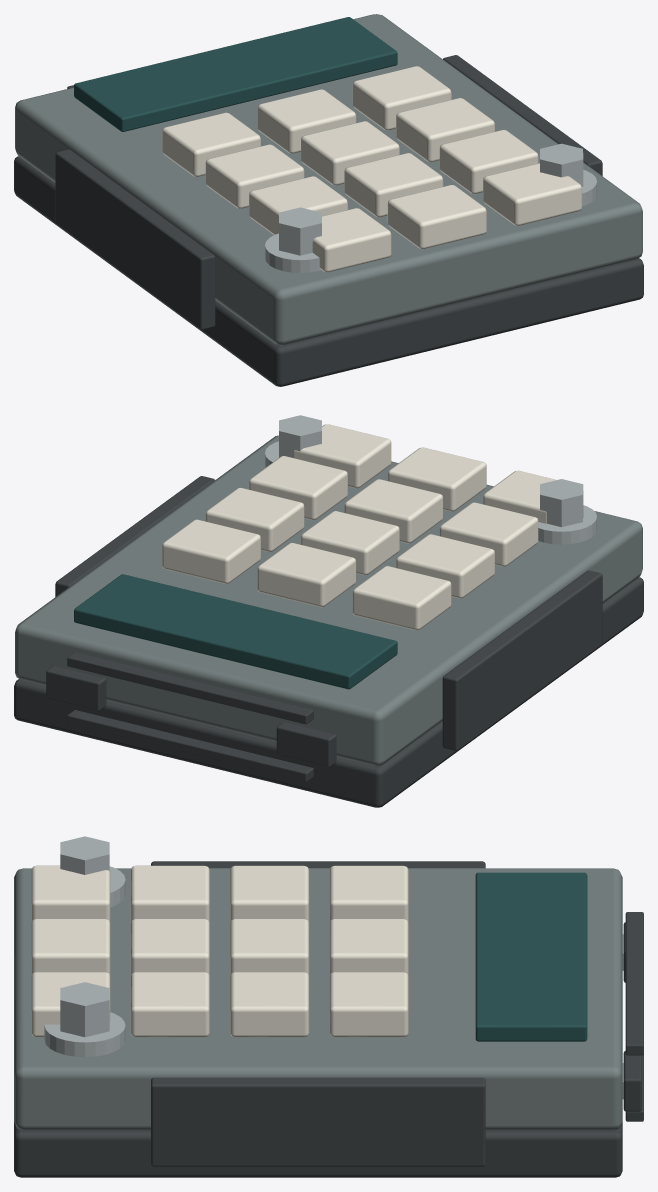
File: pneumatic-tube-mail-exchange-pneumatic-tube-mail-excha-c862b0dc__32302.glb
The picture shows the model from 3 angles, top to bottom: view 1: azimuth 30°, elevation 25°; view 2: azimuth 150°, elevation 25°; view 3: azimuth 270°, elevation 25°; orthographic projection. The views are drawn at different scales.
Parts seen in each view (by area): view 1: pneumatic-tube-mail-exchange-station-control-keypad; view 2: pneumatic-tube-mail-exchange-station-control-keypad; view 3: pneumatic-tube-mail-exchange-station-control-keypad.
Part boxes in pixels (x1,y1,x2,y2): pneumatic-tube-mail-exchange-station-control-keypad: (14, 14, 643, 386); pneumatic-tube-mail-exchange-station-control-keypad: (14, 415, 643, 807); pneumatic-tube-mail-exchange-station-control-keypad: (14, 836, 643, 1177).
Size of the model in its own units: 0.262 by 0.085 by 0.3105.
